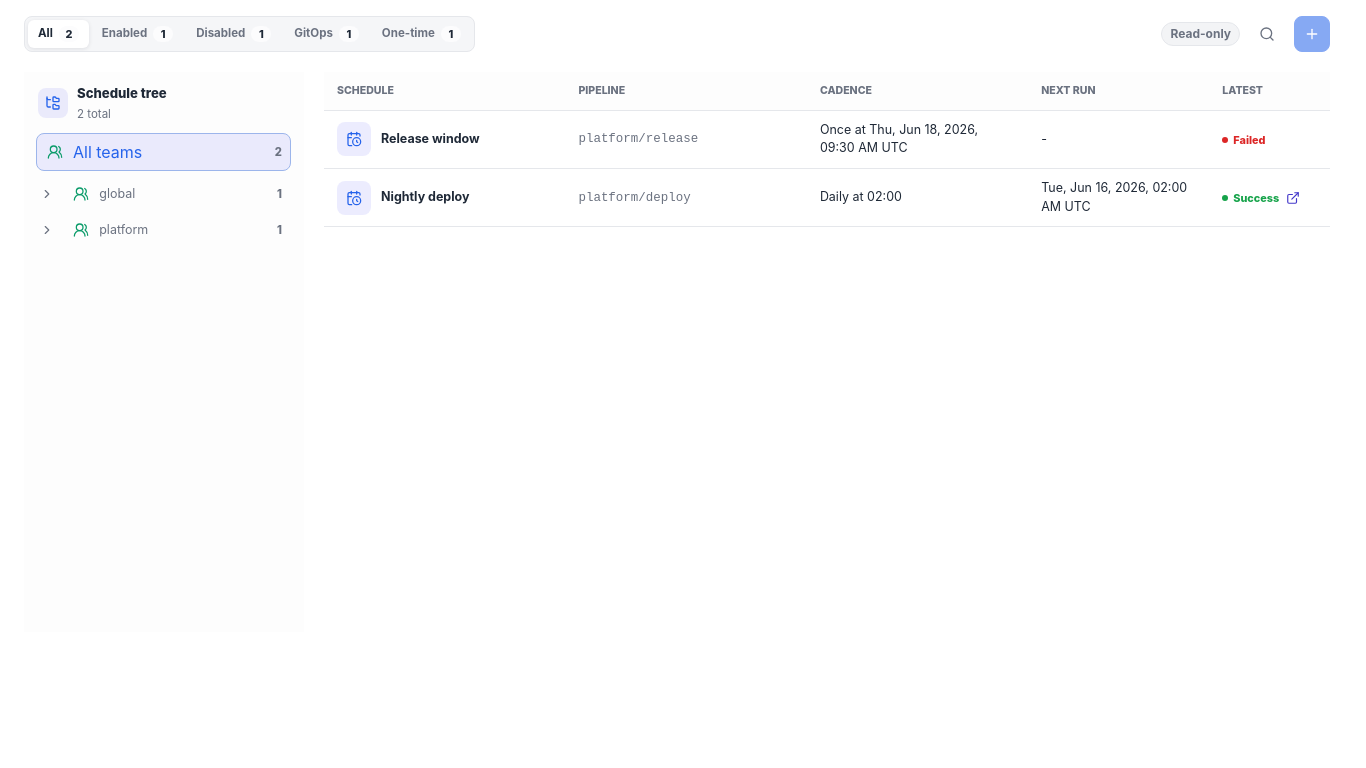
Test: ScheduleWorkspace › keeps delete available in detail when schedules are otherwise read-only
expect the button named "New schedule" is disabled: met, box 1294,16 -> 1330,52
expect the button "Delete Nightly deploy" is not shown: met
Click the button with aria-label "Select schedule Nightly deploy" at coordinates (445, 198), box 337,181 -> 552,215
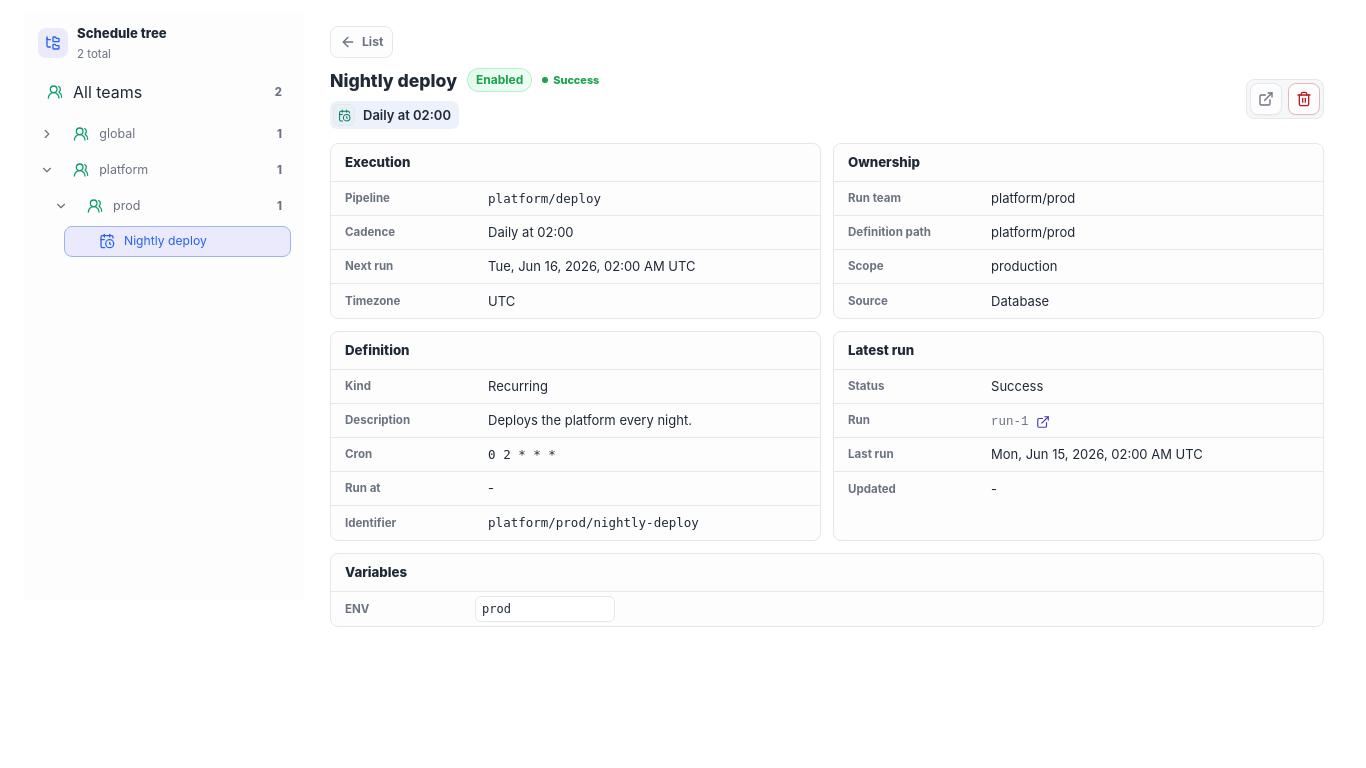
expect the button named "Delete Nightly deploy" is shown: met, box 1288,83 -> 1320,115
